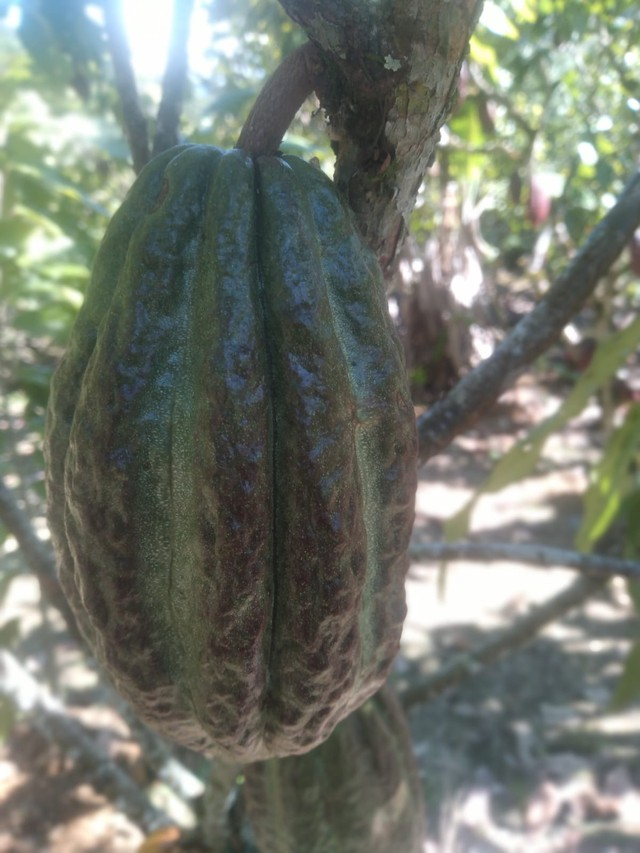Health: (22, 126, 438, 771)
